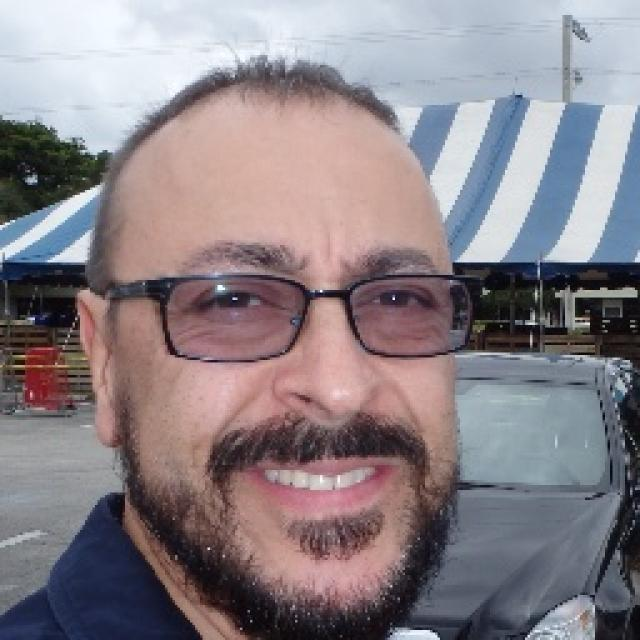earlobe: (94, 398, 123, 446)
eye: (195, 285, 276, 319), (369, 288, 431, 314)
nose: (277, 407, 382, 449)
wholeear: (75, 288, 122, 446)
